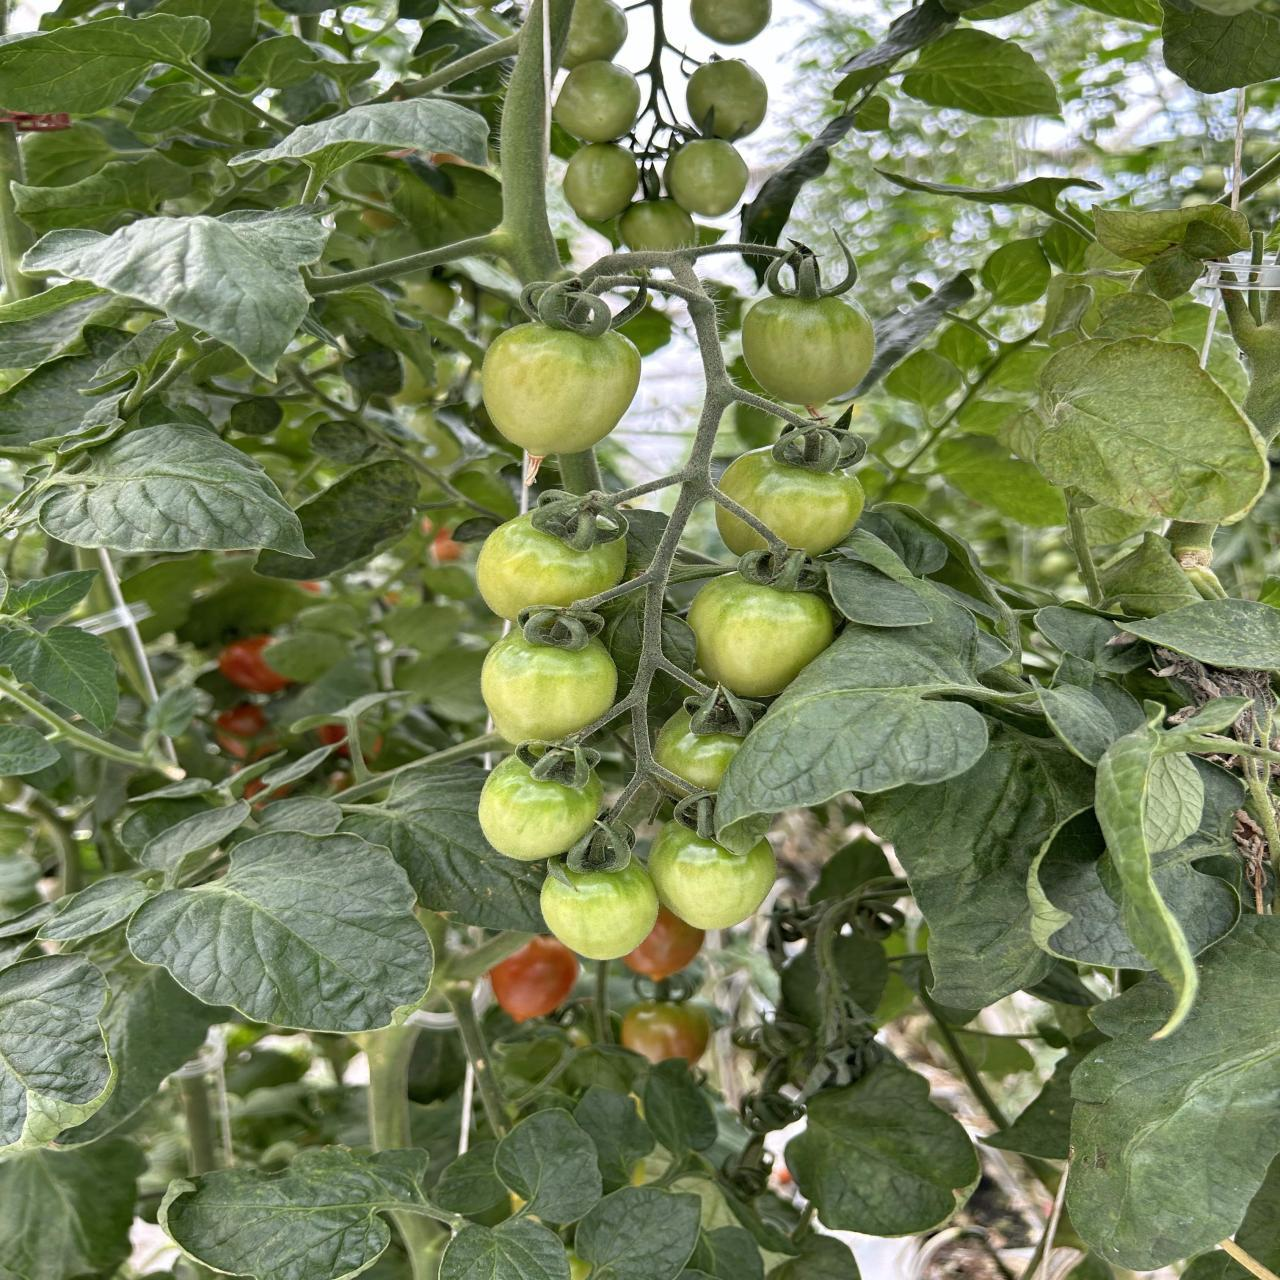Rugose leaf: (720, 545, 1010, 821), (787, 1058, 979, 1235)
